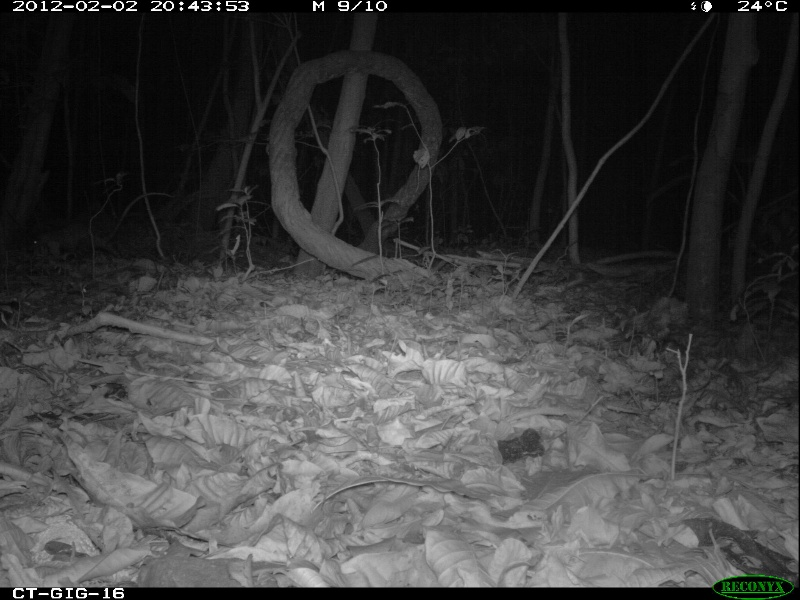opossum: (31, 185, 176, 264)
